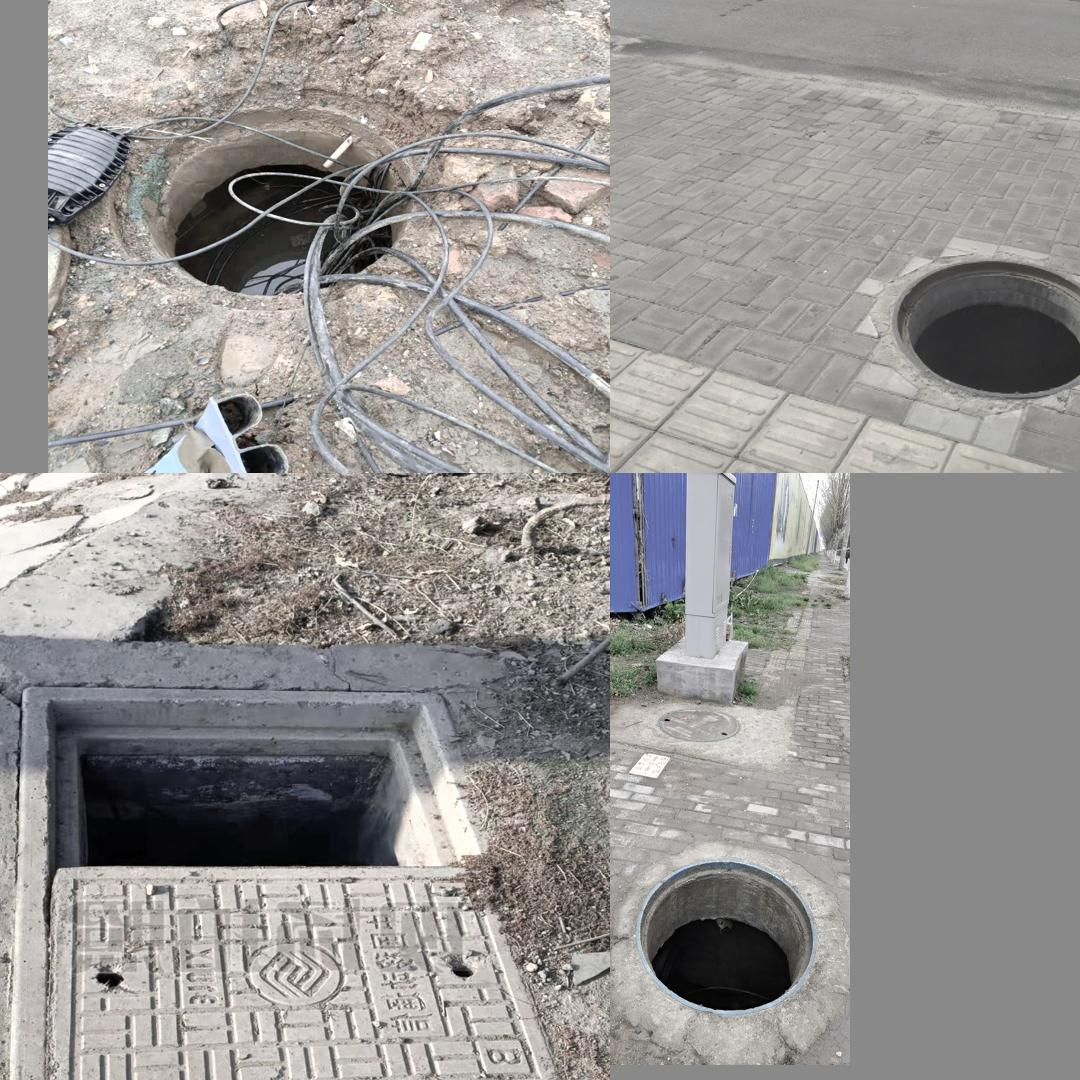lose: (6, 685, 563, 1080), (102, 94, 432, 317), (634, 858, 817, 1015), (888, 254, 1080, 398)
